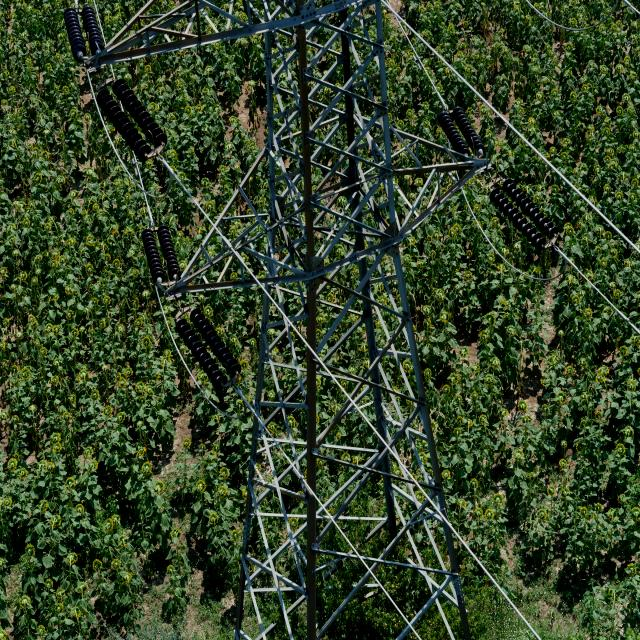voltage_line: (164, 9, 487, 640)
